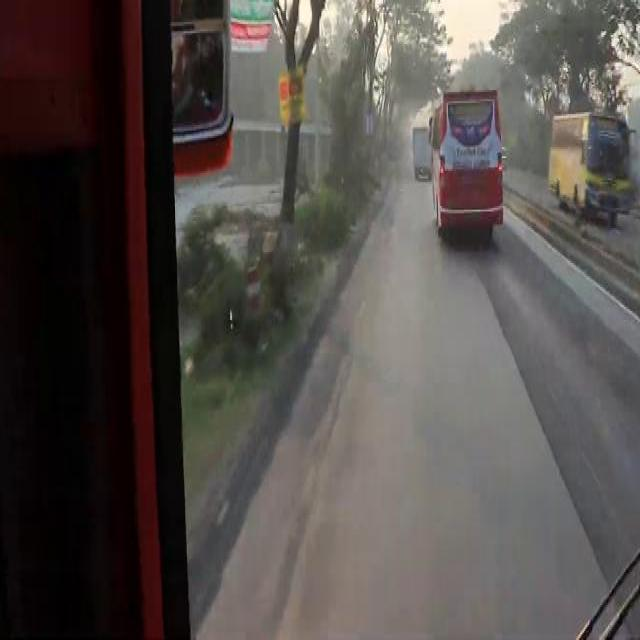vehicle: (429, 86, 503, 230), (551, 109, 633, 212), (411, 124, 429, 179)
